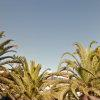Palm tree: (3, 36, 97, 100)
